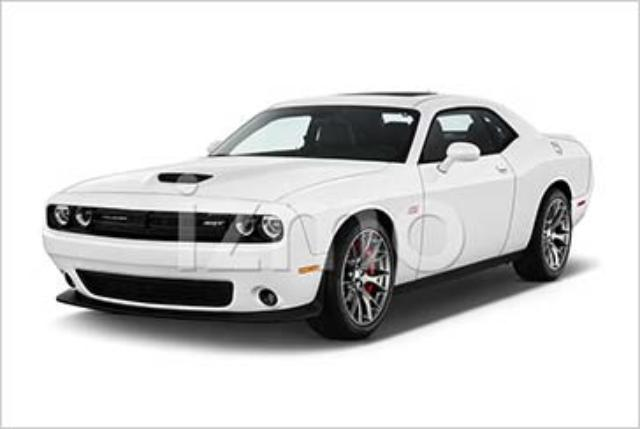dodge: (41, 92, 592, 342)
